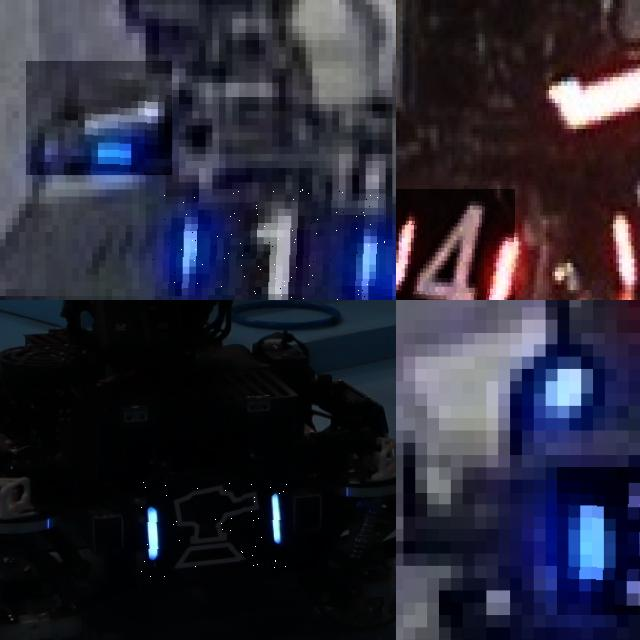B1: (152, 189, 385, 300), (26, 61, 172, 176)
B3: (557, 467, 640, 614)
Bs: (141, 481, 289, 577)
R4: (396, 189, 515, 300)
